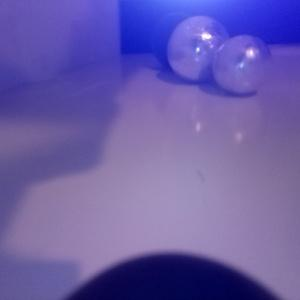alive_ball: (167, 15, 230, 81), (212, 34, 272, 95)
dead_ball: (61, 253, 279, 300), (150, 10, 205, 70)
